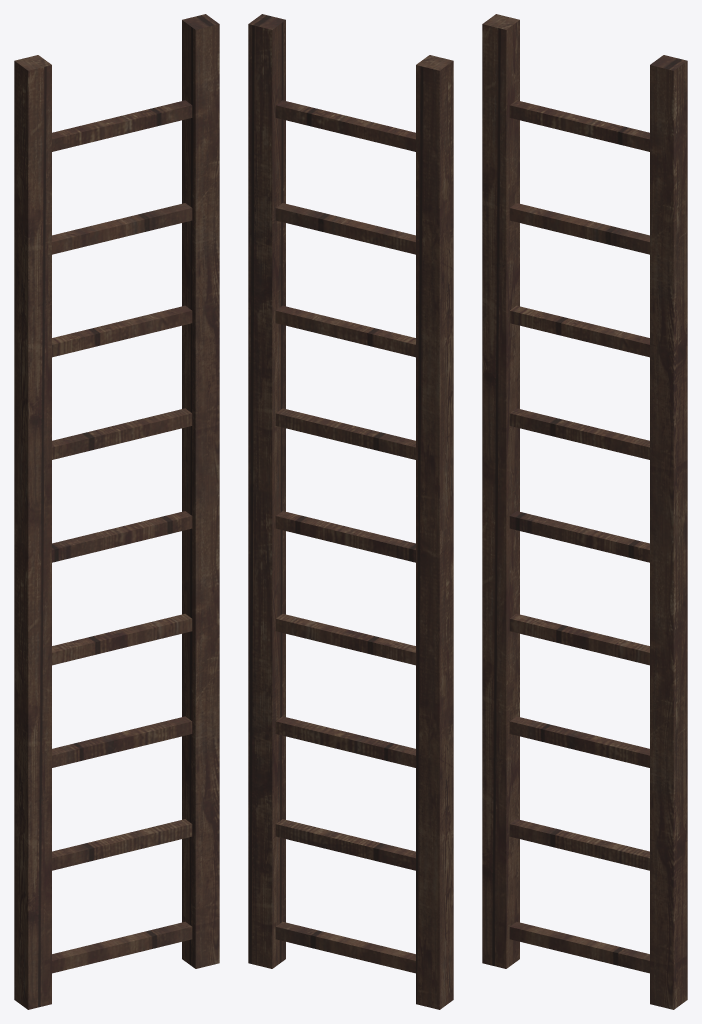
The model's file is Bibliothek_LadderSmall.fbx.
3 renders of one model, left to right at view 1: azimuth 30°, elevation 25°; view 2: azimuth 150°, elevation 25°; view 3: azimuth 330°, elevation 25°, orthographic.
Visible parts, largest first — view 1: Bibliothek_LadderSmall; view 2: Bibliothek_LadderSmall; view 3: Bibliothek_LadderSmall.
Boxes of the visible parts, x1,y1,x2,y2 form: Bibliothek_LadderSmall: [14, 14, 219, 1009]; Bibliothek_LadderSmall: [248, 14, 453, 1009]; Bibliothek_LadderSmall: [482, 14, 687, 1009].
Bounding box in the file's own units: 80 × 375 × 10.
